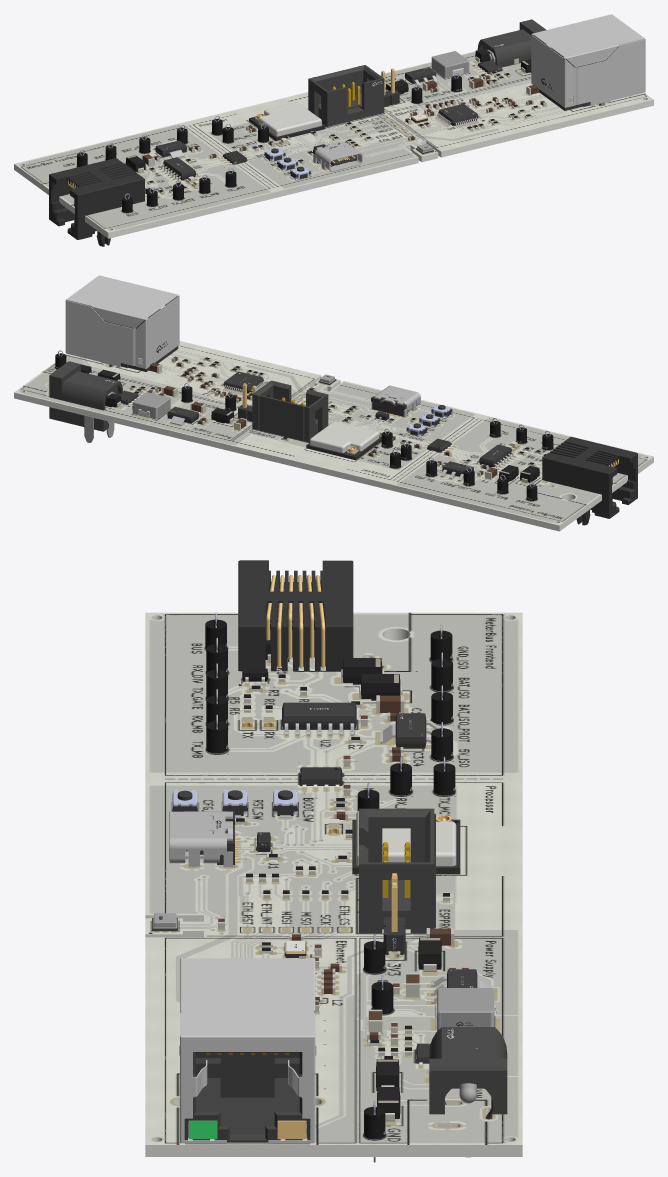
File: eveningstar-white.glb
The picture shows the model from 3 angles, top to bottom: view 1: azimuth 30°, elevation 25°; view 2: azimuth 150°, elevation 25°; view 3: azimuth 270°, elevation 25°; orthographic projection. The views are drawn at different scales.
Visible parts, largest first — view 1: =>[0:1:1:54], =>[0:1:1:27], =>[0:1:1:11], =>[0:1:1:25], =>[0:1:1:3], =>[0:1:1:5], =>[0:1:1:7], =>[0:1:1:23], =>[0:1:1:31], =>[0:1:1:9]; view 2: =>[0:1:1:54], =>[0:1:1:27], =>[0:1:1:11], =>[0:1:1:25], =>[0:1:1:3], =>[0:1:1:5], =>[0:1:1:31], =>[0:1:1:7], =>[0:1:1:23], =>[0:1:1:9]; view 3: =>[0:1:1:54], =>[0:1:1:27], =>[0:1:1:11], =>[0:1:1:3], =>[0:1:1:25], =>[0:1:1:5], =>[0:1:1:31], =>[0:1:1:23], =>[0:1:1:7], =>[0:1:1:9].
Part boxes in pixels (<box>): =>[0:1:1:54]: <box>14,51,653,238</box>; =>[0:1:1:27]: <box>531,14,645,110</box>; =>[0:1:1:11]: <box>49,58,469,246</box>; =>[0:1:1:25]: <box>308,19,546,154</box>; =>[0:1:1:3]: <box>77,56,552,212</box>; =>[0:1:1:5]: <box>153,44,503,181</box>; =>[0:1:1:7]: <box>143,75,544,164</box>; =>[0:1:1:23]: <box>431,51,469,78</box>; =>[0:1:1:31]: <box>123,48,531,171</box>; =>[0:1:1:9]: <box>264,148,310,178</box>; =>[0:1:1:54]: <box>14,341,653,531</box>; =>[0:1:1:27]: <box>65,275,179,371</box>; =>[0:1:1:11]: <box>132,383,637,525</box>; =>[0:1:1:25]: <box>49,361,336,442</box>; =>[0:1:1:3]: <box>55,341,553,500</box>; =>[0:1:1:5]: <box>56,367,547,499</box>; =>[0:1:1:31]: <box>81,364,539,482</box>; =>[0:1:1:7]: <box>148,357,496,478</box>; =>[0:1:1:23]: <box>133,392,389,420</box>; =>[0:1:1:9]: <box>406,404,451,435</box>; =>[0:1:1:54]: <box>145,612,522,1156</box>; =>[0:1:1:27]: <box>179,958,316,1144</box>; =>[0:1:1:11]: <box>169,560,494,1138</box>; =>[0:1:1:3]: <box>205,619,472,1139</box>; =>[0:1:1:25]: <box>152,808,507,1157</box>; =>[0:1:1:5]: <box>172,643,492,1134</box>; =>[0:1:1:31]: <box>265,639,441,1118</box>; =>[0:1:1:23]: <box>251,833,495,1028</box>; =>[0:1:1:7]: <box>218,695,468,1039</box>; =>[0:1:1:9]: <box>172,789,297,817</box>.
Size of the model in its own units: 0.1477 by 0.0232 by 0.0436.
Materials: 37 (2 with a texture image).
